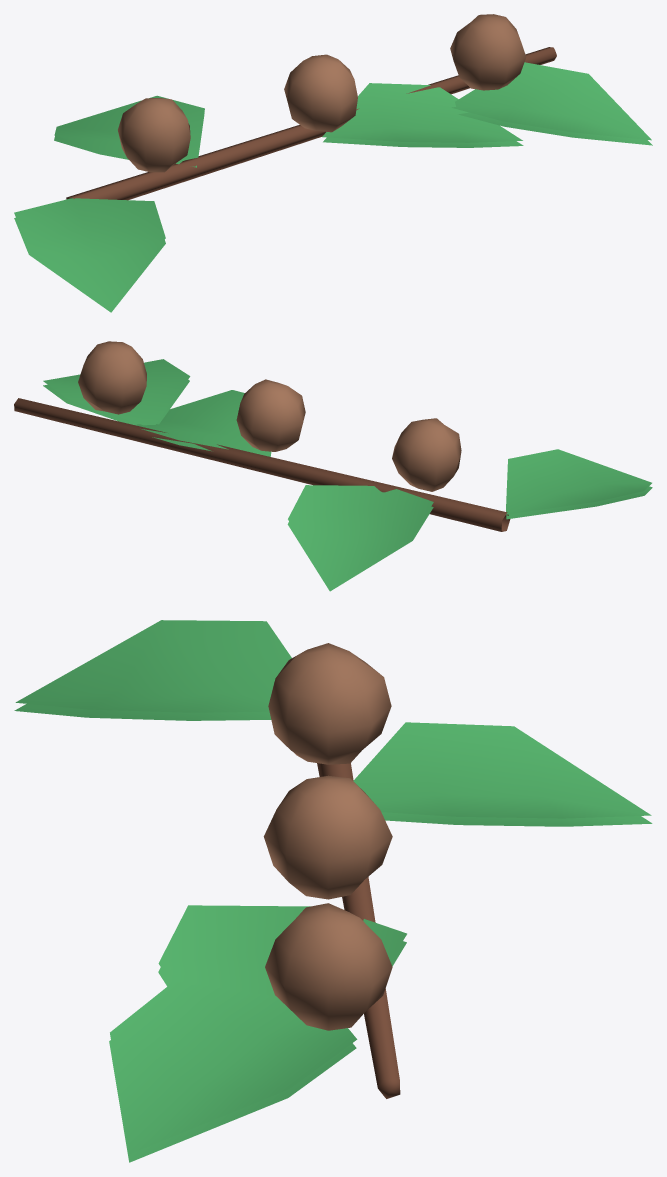
File: ing_oak_gall.gltf
3 views of the same model, one above another, from view 1: azimuth 30°, elevation 25°; view 2: azimuth 150°, elevation 25°; view 3: azimuth 270°, elevation 25° (orthographic). The views are drawn at different scales.
Visible parts, largest first — view 1: ing_oak_gall; view 2: ing_oak_gall; view 3: ing_oak_gall.
Boxes of the visible parts, bbox=[...] form: ing_oak_gall: bbox=[14, 14, 652, 312]; ing_oak_gall: bbox=[14, 341, 652, 591]; ing_oak_gall: bbox=[14, 620, 652, 1162].
Size of what is drawn, in the model's own units: 0.3685 by 0.0614 by 0.207.
